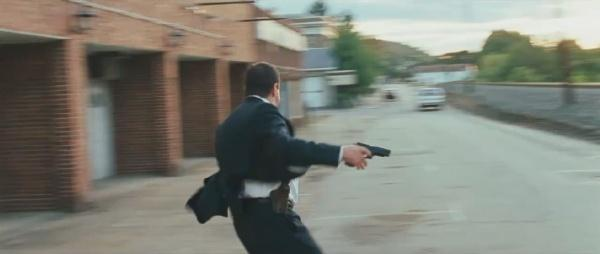Gun: (347, 141, 391, 168)
